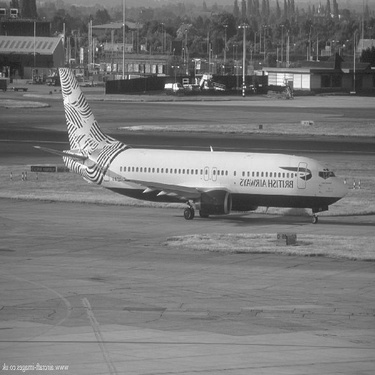airplane: (25, 61, 357, 225)
